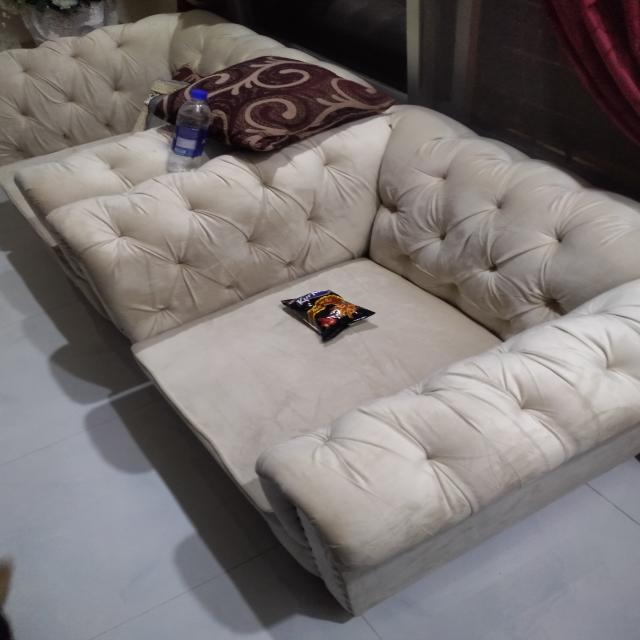Plastic: (286, 286, 379, 340)
